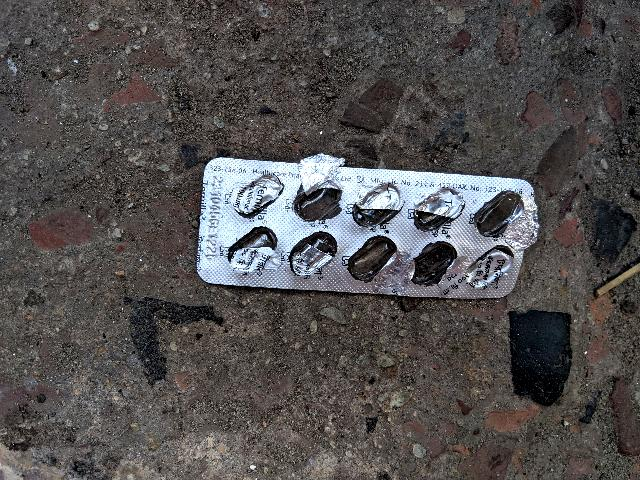medicine: (166, 156, 549, 304)
